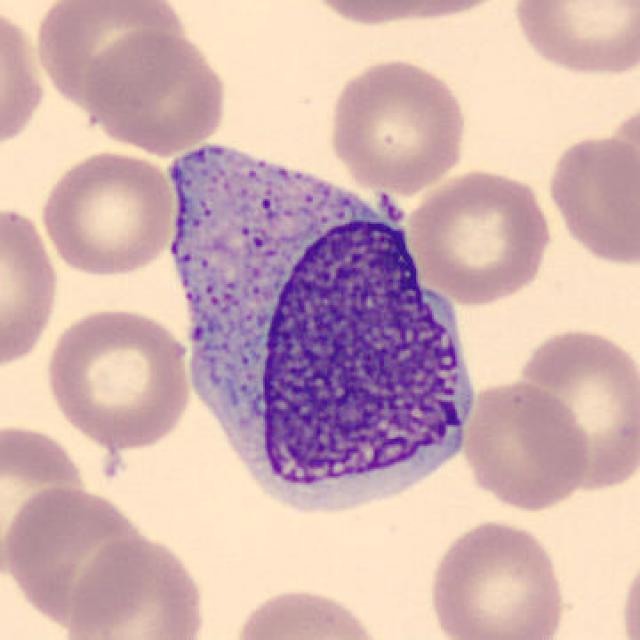Monocyte: (164, 134, 482, 529)
RBC: (4, 481, 160, 633), (41, 304, 194, 452), (508, 322, 638, 496), (404, 166, 554, 307), (325, 55, 471, 194), (84, 28, 231, 155), (458, 376, 594, 513), (38, 148, 180, 279), (425, 516, 571, 640), (32, 0, 188, 115), (58, 530, 211, 640), (0, 419, 92, 581), (542, 129, 638, 268), (0, 201, 62, 372), (508, 0, 638, 79), (227, 583, 389, 640), (0, 3, 48, 158), (300, 0, 442, 28), (370, 0, 519, 21), (617, 543, 640, 640)
